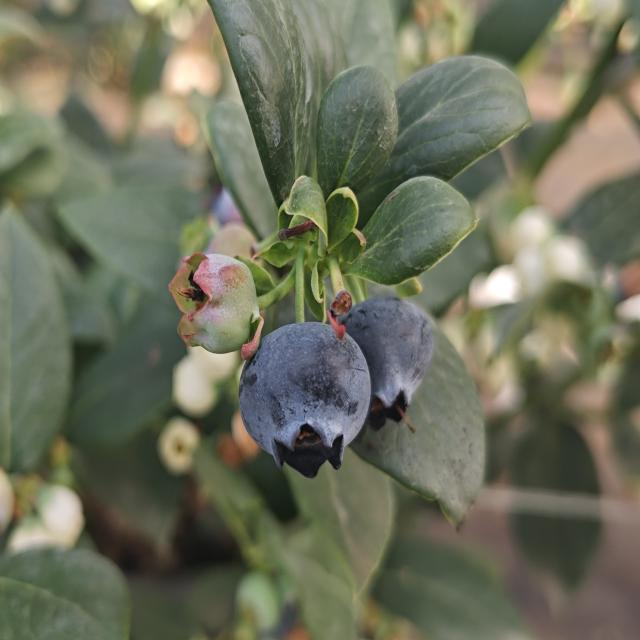ripe: (235, 318, 374, 481), (334, 292, 436, 435)
